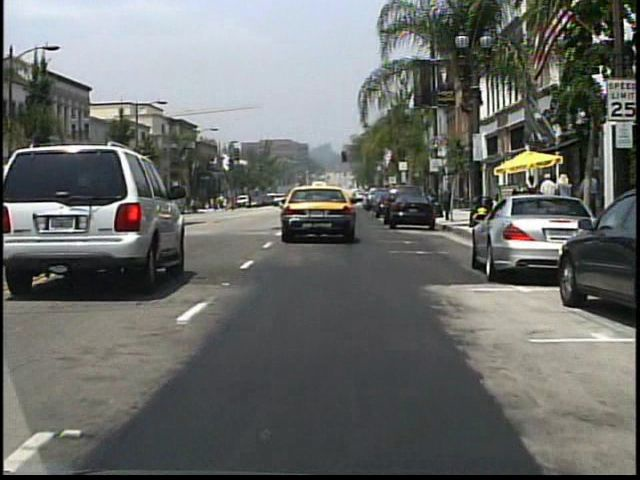person: (554, 172, 575, 226), (538, 171, 559, 225), (580, 171, 600, 227), (523, 175, 541, 220), (249, 193, 256, 208)
